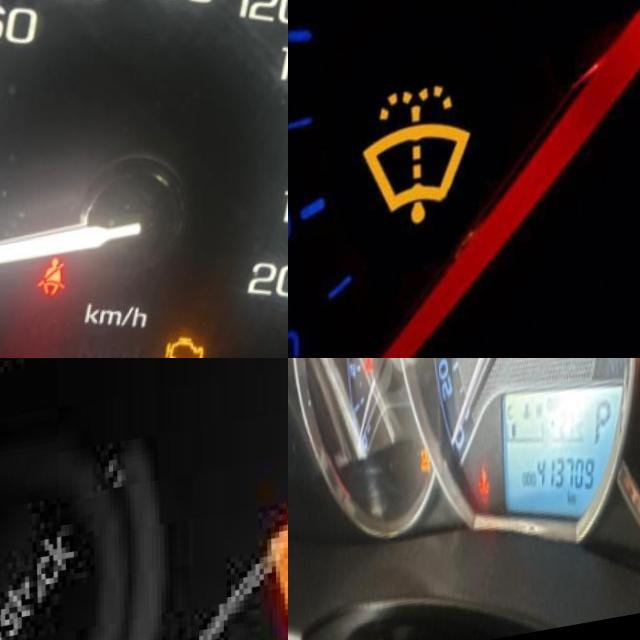High Engine Coolant Temperature: (473, 471, 489, 509)
Seat Belt: (33, 259, 71, 312)
